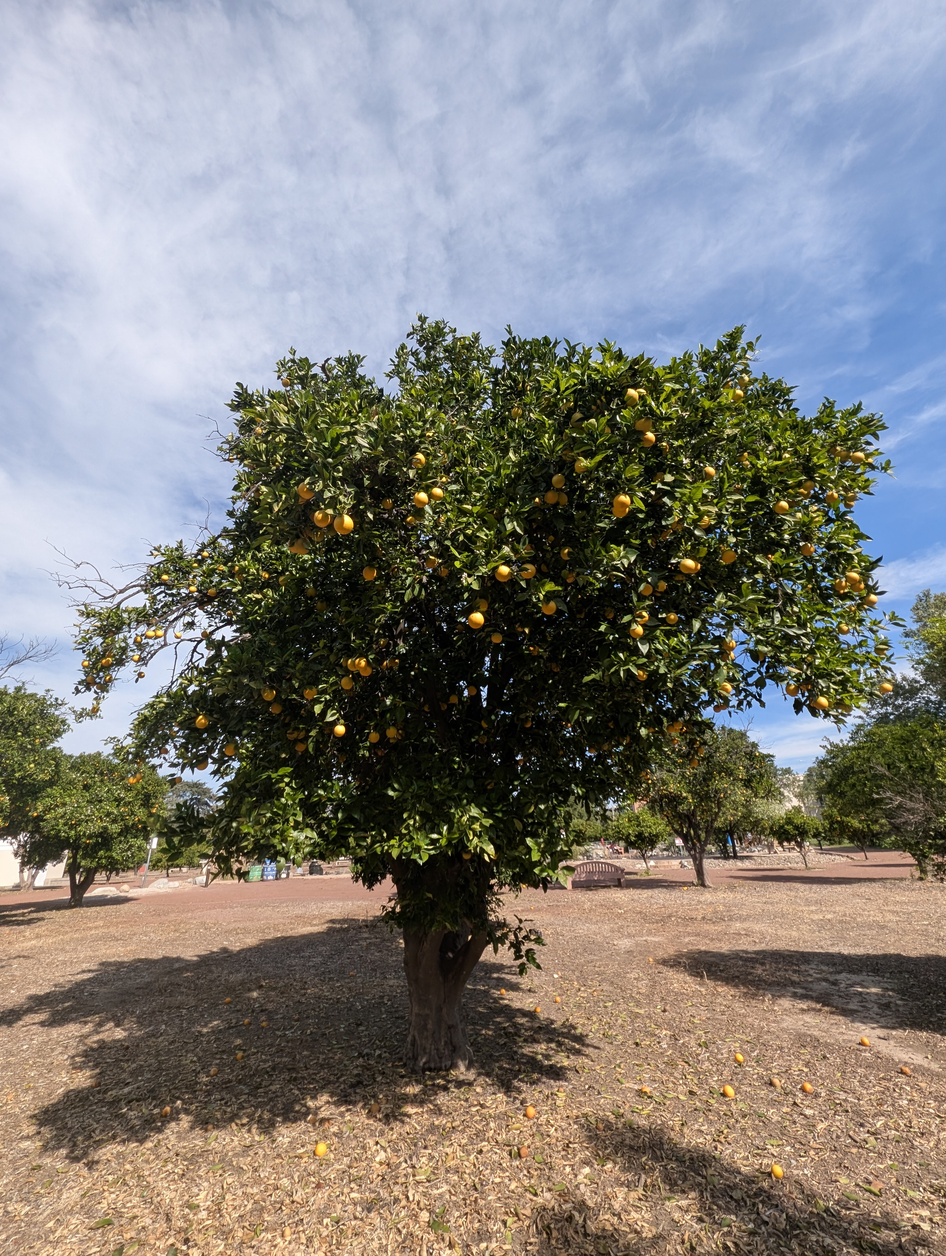orange: (333, 514, 354, 534), (495, 564, 513, 582), (297, 482, 314, 501), (313, 510, 332, 527), (288, 539, 308, 555), (467, 611, 484, 629), (678, 558, 697, 574), (625, 388, 639, 408), (519, 563, 536, 579), (411, 452, 426, 469), (574, 458, 589, 474), (773, 500, 790, 514), (635, 417, 652, 431), (615, 493, 629, 510), (414, 492, 429, 507), (722, 549, 737, 564), (641, 431, 655, 447), (814, 696, 830, 710), (195, 714, 209, 730), (826, 490, 839, 507), (544, 489, 558, 504), (542, 600, 556, 615), (340, 675, 354, 690), (262, 687, 276, 702), (363, 566, 377, 580), (313, 530, 327, 544), (801, 542, 815, 556), (358, 663, 372, 677), (570, 412, 583, 427), (345, 658, 360, 671), (429, 487, 443, 500), (719, 681, 732, 695), (333, 723, 346, 737), (223, 742, 236, 756), (552, 473, 564, 488), (834, 579, 847, 592), (630, 625, 643, 638), (425, 556, 438, 569), (354, 657, 367, 670), (304, 686, 317, 699), (738, 374, 750, 388), (196, 757, 208, 771), (703, 466, 715, 480), (850, 452, 865, 463), (612, 507, 628, 517), (865, 594, 878, 606), (636, 611, 649, 623), (786, 684, 799, 696), (269, 702, 282, 714), (557, 491, 568, 505), (656, 580, 667, 594), (879, 682, 893, 693), (381, 498, 393, 510), (666, 613, 678, 625), (368, 731, 380, 743), (386, 727, 398, 739), (697, 515, 709, 527), (560, 547, 571, 560), (641, 583, 652, 596), (671, 518, 682, 531), (650, 493, 664, 503), (511, 406, 522, 418), (724, 639, 736, 650), (838, 623, 850, 634), (295, 740, 306, 752), (636, 669, 647, 681), (637, 386, 647, 399), (478, 598, 488, 611), (802, 481, 815, 491), (733, 389, 744, 400), (838, 451, 849, 462), (102, 656, 113, 667), (845, 573, 858, 582), (406, 515, 417, 525), (491, 633, 502, 643), (724, 652, 734, 662), (467, 686, 477, 696), (206, 588, 216, 598), (439, 566, 448, 577), (390, 658, 399, 669), (286, 729, 297, 738), (316, 601, 327, 610), (652, 473, 664, 481), (828, 446, 840, 454), (561, 403, 574, 410), (448, 694, 458, 703), (155, 628, 164, 638), (801, 488, 811, 497), (278, 575, 287, 585), (593, 401, 601, 412), (131, 654, 140, 663), (605, 610, 614, 619), (567, 573, 575, 583), (201, 630, 209, 640), (160, 574, 170, 582), (852, 583, 862, 591), (305, 531, 315, 539), (875, 648, 886, 655), (174, 631, 182, 640), (135, 635, 143, 644), (104, 674, 113, 682), (188, 585, 197, 593), (296, 730, 305, 738), (738, 453, 747, 461), (844, 501, 853, 509), (801, 684, 811, 691), (145, 631, 155, 638), (386, 566, 397, 572), (137, 670, 145, 678), (261, 571, 269, 579), (201, 550, 209, 558), (436, 517, 444, 525), (81, 660, 90, 667), (380, 661, 389, 668), (524, 544, 533, 551), (757, 651, 764, 660), (695, 562, 701, 572), (661, 443, 667, 453), (233, 566, 240, 574), (308, 589, 315, 597), (282, 380, 290, 387), (661, 531, 668, 539), (531, 647, 538, 655), (787, 501, 796, 507), (562, 451, 568, 460), (310, 512, 315, 522), (605, 426, 611, 434), (129, 778, 137, 784), (667, 725, 675, 731), (86, 676, 94, 682), (534, 498, 540, 506), (517, 624, 523, 632), (299, 497, 305, 505), (252, 492, 261, 497), (255, 427, 261, 434), (381, 641, 387, 648), (229, 455, 234, 463), (176, 778, 182, 784), (553, 665, 559, 671), (482, 721, 488, 727), (767, 555, 773, 561), (339, 755, 345, 761), (674, 722, 681, 727), (714, 706, 719, 713), (848, 495, 855, 500), (542, 565, 549, 570), (481, 736, 486, 743), (416, 516, 424, 520), (439, 477, 447, 481), (847, 607, 855, 611), (135, 774, 140, 780), (162, 749, 168, 754), (524, 721, 530, 726), (691, 759, 697, 764), (236, 574, 241, 580), (227, 610, 232, 616), (589, 748, 595, 753), (378, 750, 384, 755), (609, 721, 614, 727), (377, 548, 381, 555), (699, 748, 704, 753), (96, 684, 101, 689), (549, 536, 554, 541), (724, 383, 730, 387), (92, 708, 97, 712), (219, 566, 224, 570), (525, 384, 529, 389), (567, 723, 572, 727), (464, 854, 469, 858), (441, 705, 446, 709), (192, 564, 198, 567), (242, 492, 245, 498), (626, 736, 629, 742), (488, 784, 492, 788), (559, 750, 563, 754), (720, 706, 725, 709), (198, 606, 203, 609), (389, 739, 396, 741), (90, 683, 94, 686), (459, 626, 462, 630), (518, 759, 522, 762), (650, 728, 653, 732), (174, 723, 178, 726), (347, 693, 353, 695), (673, 740, 677, 743), (172, 733, 177, 735), (644, 776, 649, 778), (109, 653, 112, 656), (425, 706, 427, 709), (643, 772, 645, 775)
